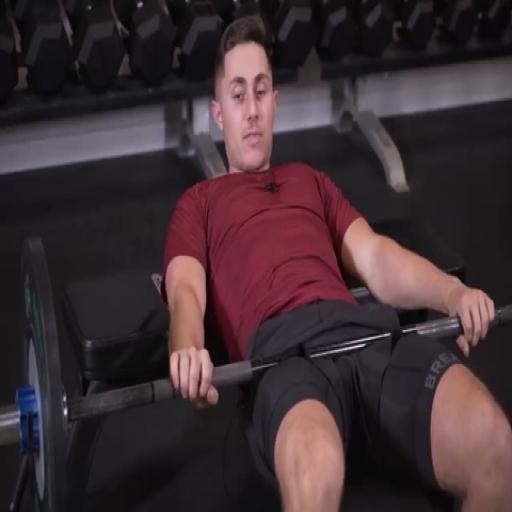exercise: (158, 12, 511, 510)
